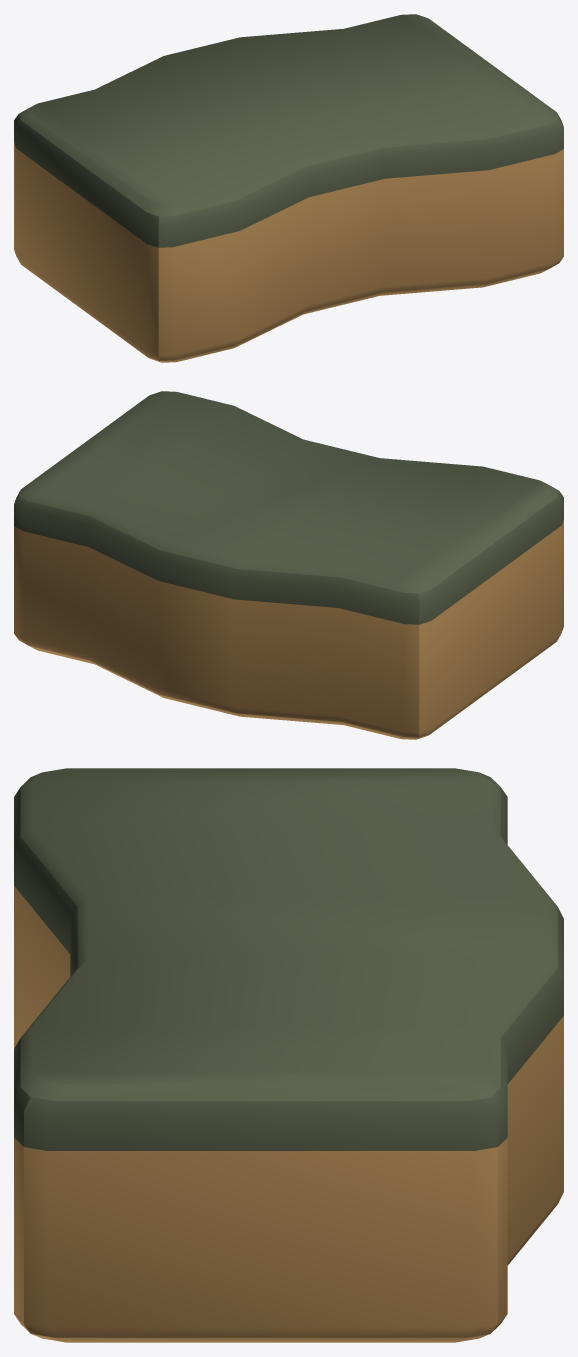
3 renders of one model, top to bottom at view 1: azimuth 30°, elevation 25°; view 2: azimuth 150°, elevation 25°; view 3: azimuth 270°, elevation 25°, orthographic. The views are drawn at different scales.
Parts seen in each view (by area): view 1: Sponge_Sponge_0; view 2: Sponge_Sponge_0; view 3: Sponge_Sponge_0.
Part boxes in pixels (left/top/right/bottom): Sponge_Sponge_0: left=14, top=14, right=563, bottom=362; Sponge_Sponge_0: left=14, top=391, right=563, bottom=739; Sponge_Sponge_0: left=14, top=768, right=563, bottom=1342.
Bounding box in the file's own units: 0.1 × 0.07 × 0.036.
1 material, 1 textured.
